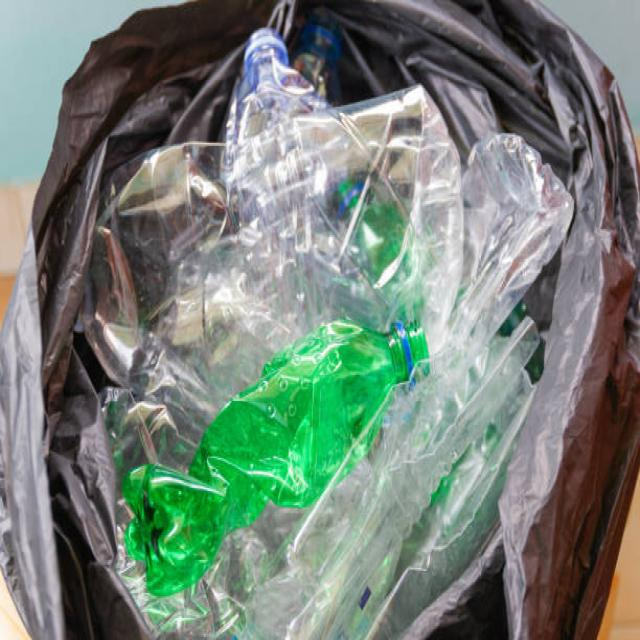plastic: (139, 141, 464, 606)
